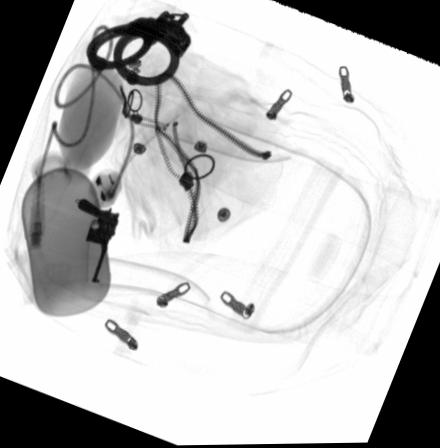Gun: (74, 196, 120, 285)
HandCuffs: (84, 8, 191, 87)
